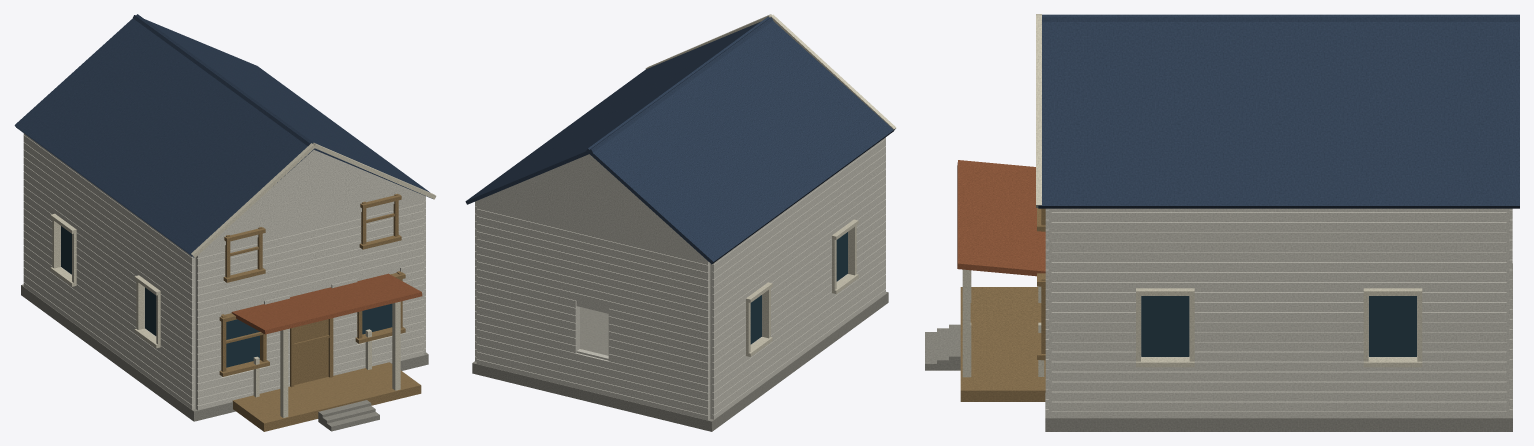
File: HOUSEB2_lod2.glb
3 views of the same model, side by side, from view 1: azimuth 30°, elevation 25°; view 2: azimuth 150°, elevation 25°; view 3: azimuth 270°, elevation 25° (orthographic). The views are drawn at different scales.
Parts seen in each view (by area): view 1: HOUSEB2_LOD2; view 2: HOUSEB2_LOD2; view 3: HOUSEB2_LOD2.
Part boxes in pixels (x1,y1,x2,y2): HOUSEB2_LOD2: [14, 14, 436, 431]; HOUSEB2_LOD2: [465, 14, 896, 431]; HOUSEB2_LOD2: [925, 14, 1519, 431].
Bounding box in the file's own units: 7.52 × 7.42 × 11.76.
Materials: 10 (8 with a texture image).
